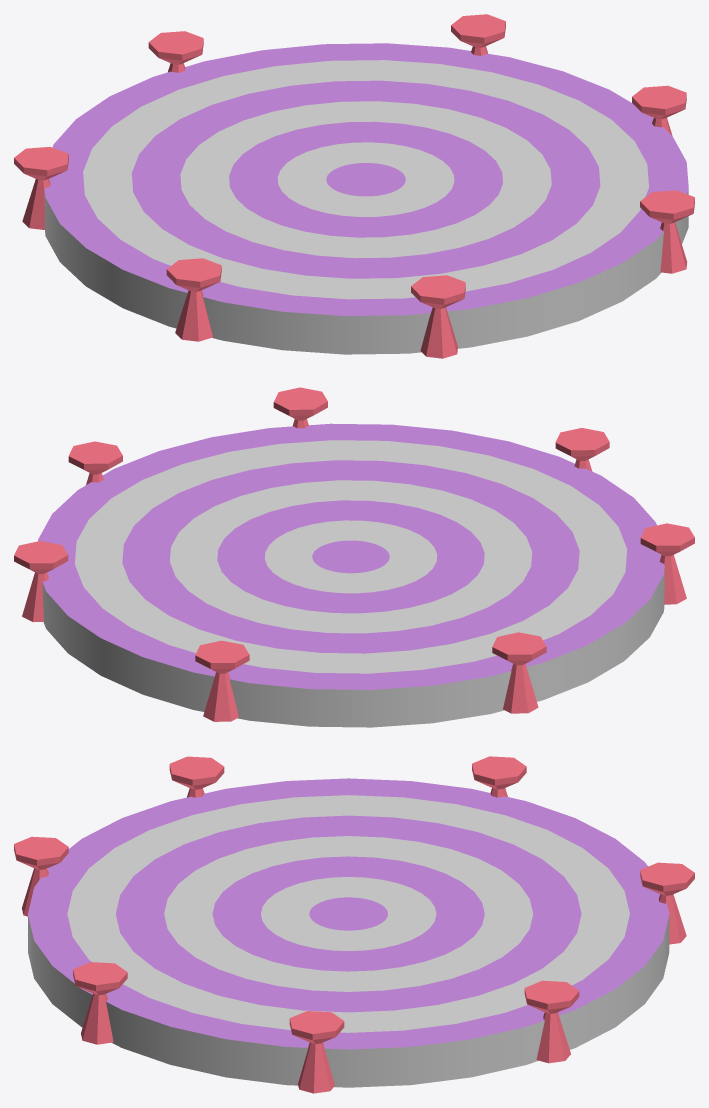
The model's file is Arena.fbx.
3 renders of one model, top to bottom at view 1: azimuth 30°, elevation 25°; view 2: azimuth 150°, elevation 25°; view 3: azimuth 270°, elevation 25°, orthographic. The views are drawn at different scales.
Parts seen in each view (by area): view 1: Cylinder.001, Cylinder.002; view 2: Cylinder.001, Cylinder.002; view 3: Cylinder.001, Cylinder.002.
Part boxes in pixels (bbox=[...]): Cylinder.001: bbox=[44, 43, 688, 354]; Cylinder.002: bbox=[14, 14, 694, 358]; Cylinder.001: bbox=[38, 423, 664, 727]; Cylinder.002: bbox=[14, 387, 694, 721]; Cylinder.001: bbox=[28, 778, 669, 1087]; Cylinder.002: bbox=[14, 756, 694, 1093].
Bounding box in the file's own units: 799 × 85.2 × 816.
